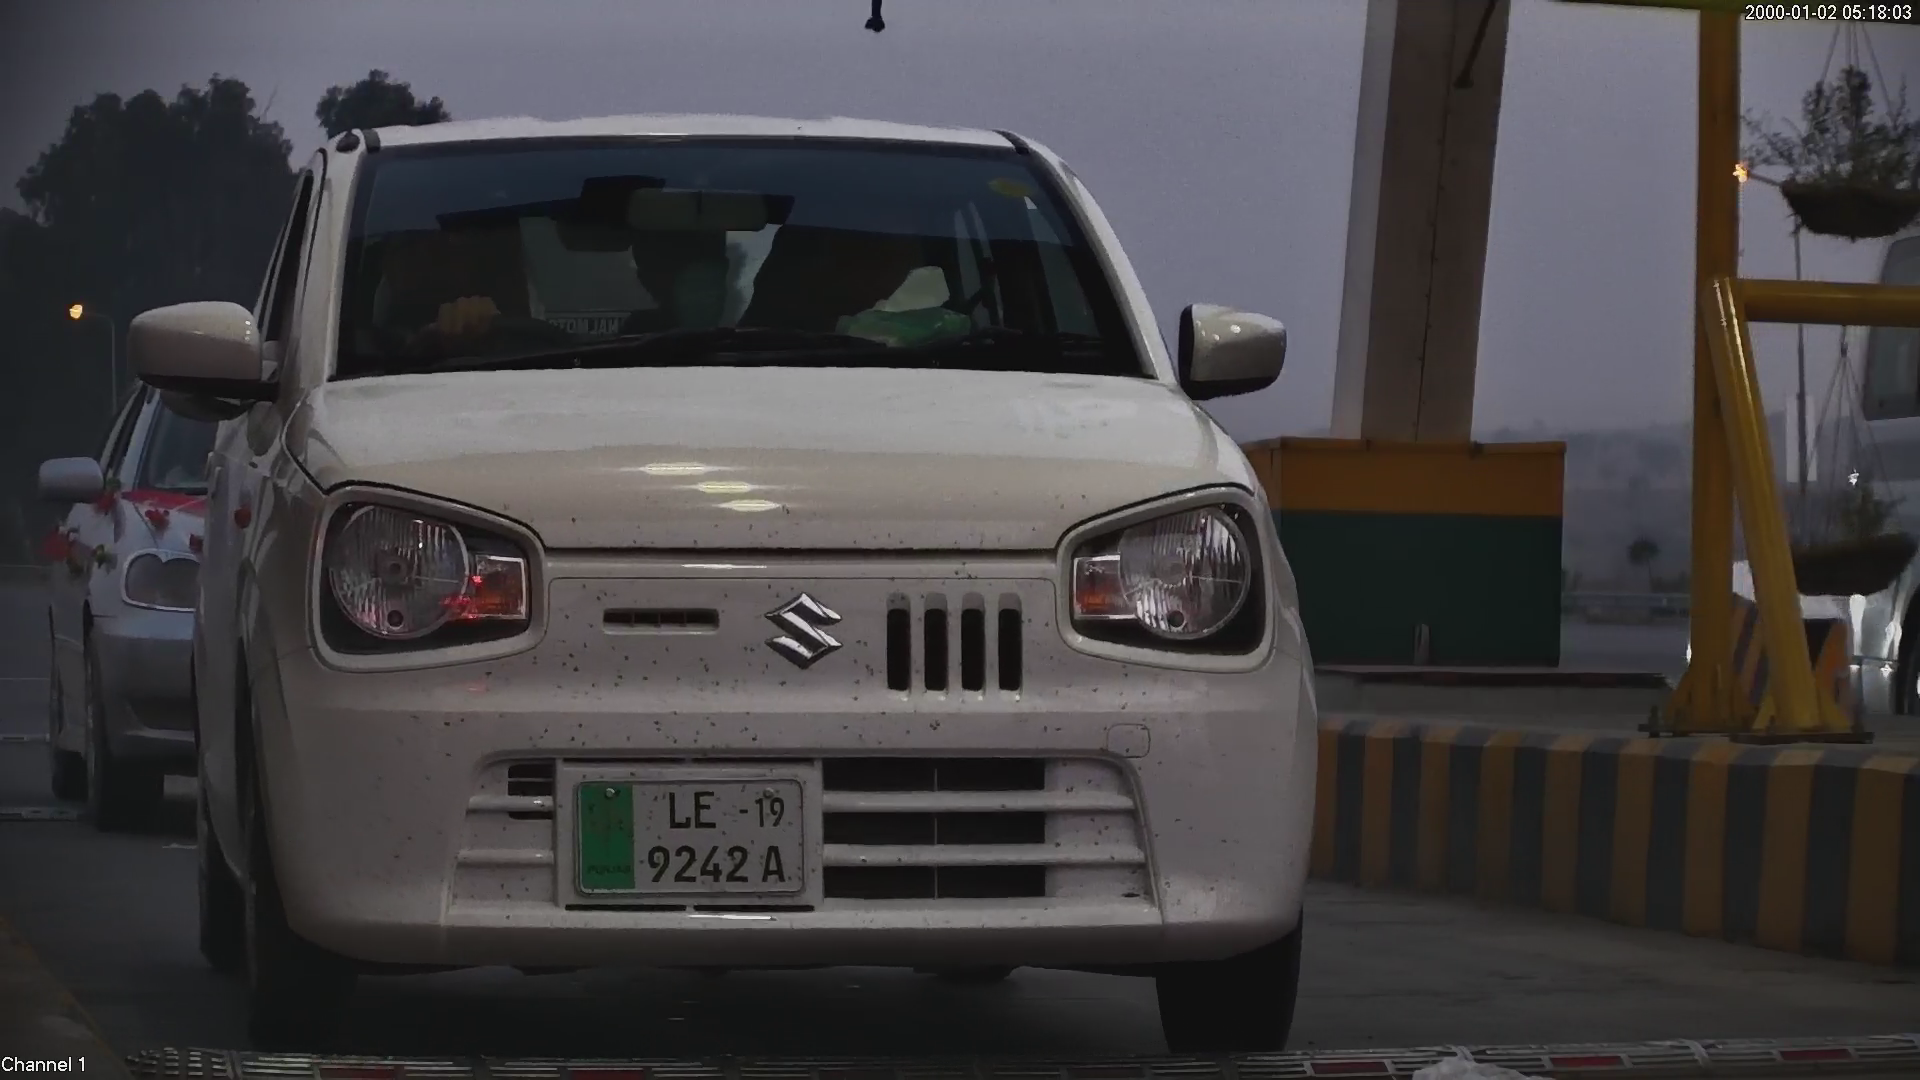Number_Plate: (563, 765, 817, 914)
